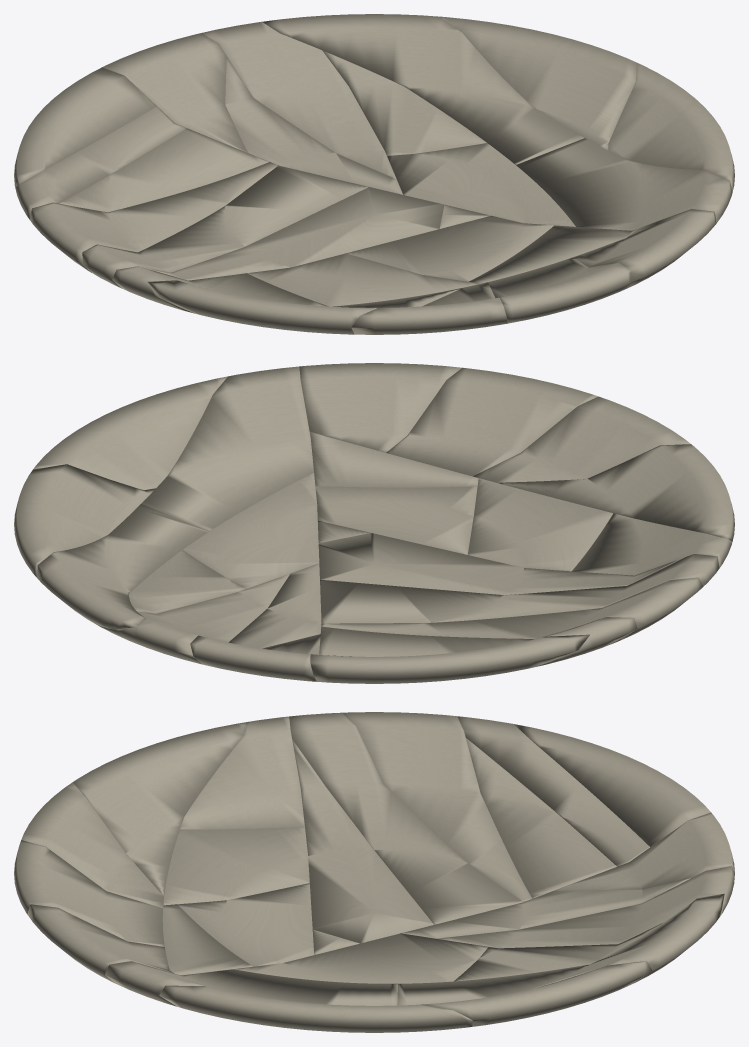
Rendered from fracture-solids.glb.
3 renders of one model, top to bottom at view 1: azimuth 30°, elevation 25°; view 2: azimuth 150°, elevation 25°; view 3: azimuth 270°, elevation 25°, orthographic.
Parts seen in each view (by area): view 1: fragment-006, fragment-008, fragment-002, fragment-005, fragment-004, fragment-018, fragment-015, fragment-003, fragment-009, fragment-020, fragment-017, fragment-007 (+12 smaller); view 2: fragment-005, fragment-012, fragment-004, fragment-000, fragment-018, fragment-006, fragment-009, fragment-013, fragment-010, fragment-001, fragment-015, fragment-008 (+12 smaller); view 3: fragment-004, fragment-003, fragment-000, fragment-018, fragment-010, fragment-011, fragment-007, fragment-017, fragment-016, fragment-009, fragment-015, fragment-006 (+12 smaller).
Part boxes in pixels (x1,y1,x2,y2): fragment-006: (262,14,584,164); fragment-008: (439,16,636,150); fragment-002: (202,21,396,178); fragment-005: (516,138,732,230); fragment-004: (82,165,368,288); fragment-018: (147,187,444,280); fragment-015: (387,143,575,226); fragment-003: (30,162,277,272); fragment-009: (608,63,734,192); fragment-020: (102,33,247,152); fragment-017: (14,67,156,187); fragment-007: (59,128,269,212); fragment-005: (141,366,313,531); fragment-012: (386,367,598,476); fragment-004: (320,554,719,623); fragment-000: (496,444,734,541); fragment-018: (318,533,683,595); fragment-006: (37,504,208,629); fragment-009: (33,376,227,490); fragment-013: (299,363,461,452); fragment-010: (467,478,612,571); fragment-001: (473,396,690,482); fragment-015: (183,473,319,588); fragment-008: (14,464,155,577); fragment-004: (289,712,523,924); fragment-003: (342,712,532,901); fragment-000: (72,721,248,896); fragment-018: (292,739,433,943); fragment-010: (163,827,309,905); fragment-011: (180,716,304,829); fragment-007: (466,738,616,898); fragment-017: (514,724,710,846); fragment-016: (457,716,649,866); fragment-009: (159,985,472,1032); fragment-015: (234,933,488,983); fragment-006: (397,893,724,1005).
Bounding box in the file's own units: 0.25 × 0.026 × 0.25.
Materials: 1 (1 with a texture image).
